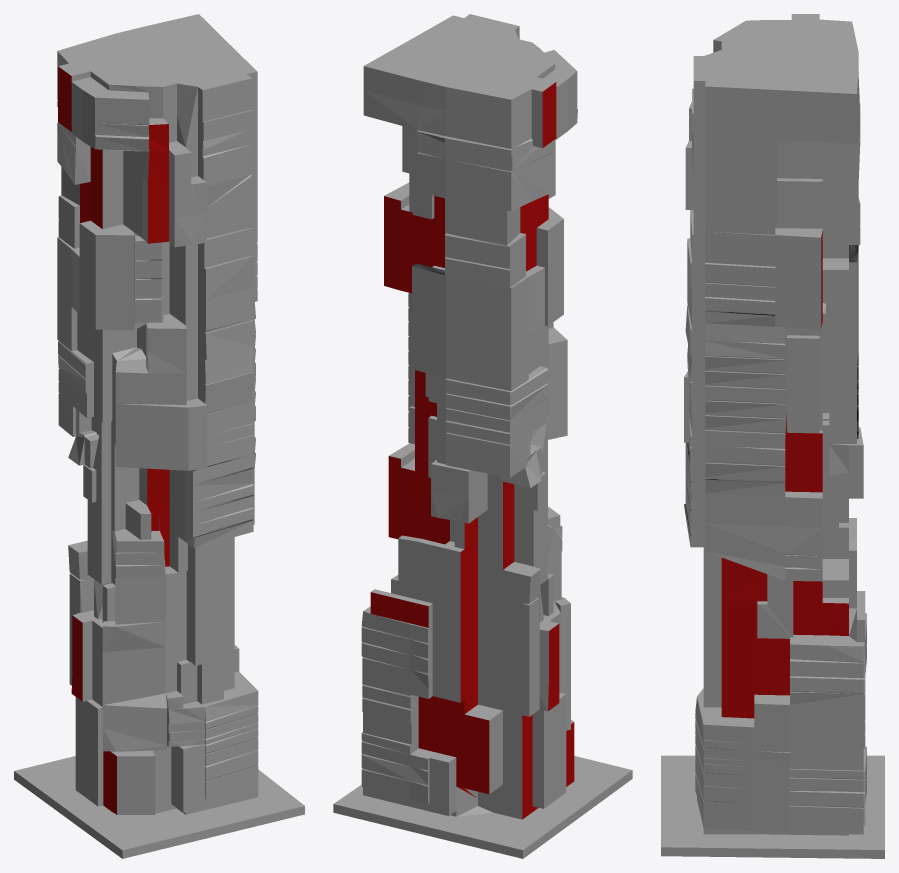
The model's file is blocky+sculpture+3d+model.fbx.
3 renders of one model, left to right at view 1: azimuth 30°, elevation 25°; view 2: azimuth 150°, elevation 25°; view 3: azimuth 270°, elevation 25°, orthographic. The views are drawn at different scales.
Visible parts, largest first — view 1: server_low; view 2: server_low; view 3: server_low.
Boxes of the visible parts, bbox=[...] form: server_low: bbox=[14, 14, 304, 858]; server_low: bbox=[333, 14, 632, 858]; server_low: bbox=[661, 14, 884, 858].
Bounding box in the file's own units: 101680 × 379258 × 101680.
3 materials, 1 textured.
